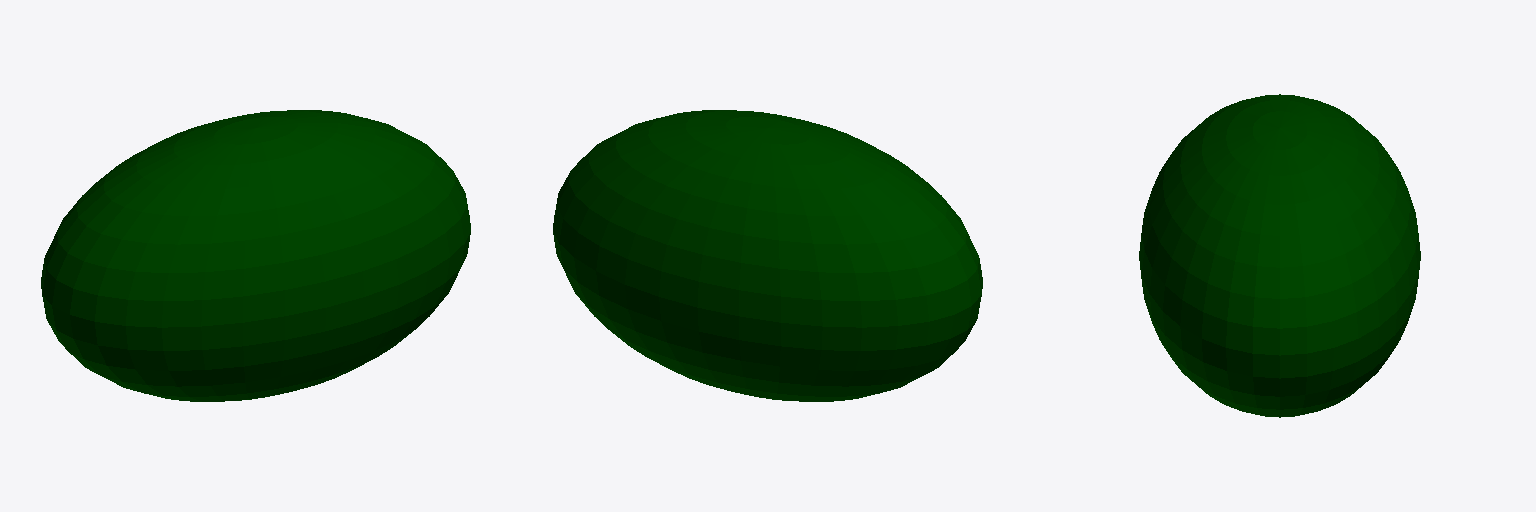
The model's file is melon.obj.
3 views of the same model, side by side, from view 1: azimuth 30°, elevation 25°; view 2: azimuth 150°, elevation 25°; view 3: azimuth 270°, elevation 25° (orthographic).
Visible parts, largest first — view 1: Sphere; view 2: Sphere; view 3: Sphere.
Part boxes in pixels (x1,y1,x2,y2): Sphere: (41,110,470,401); Sphere: (553,110,982,401); Sphere: (1139,94,1420,417).
Size of the model in its own units: 3.34 by 2 by 2.